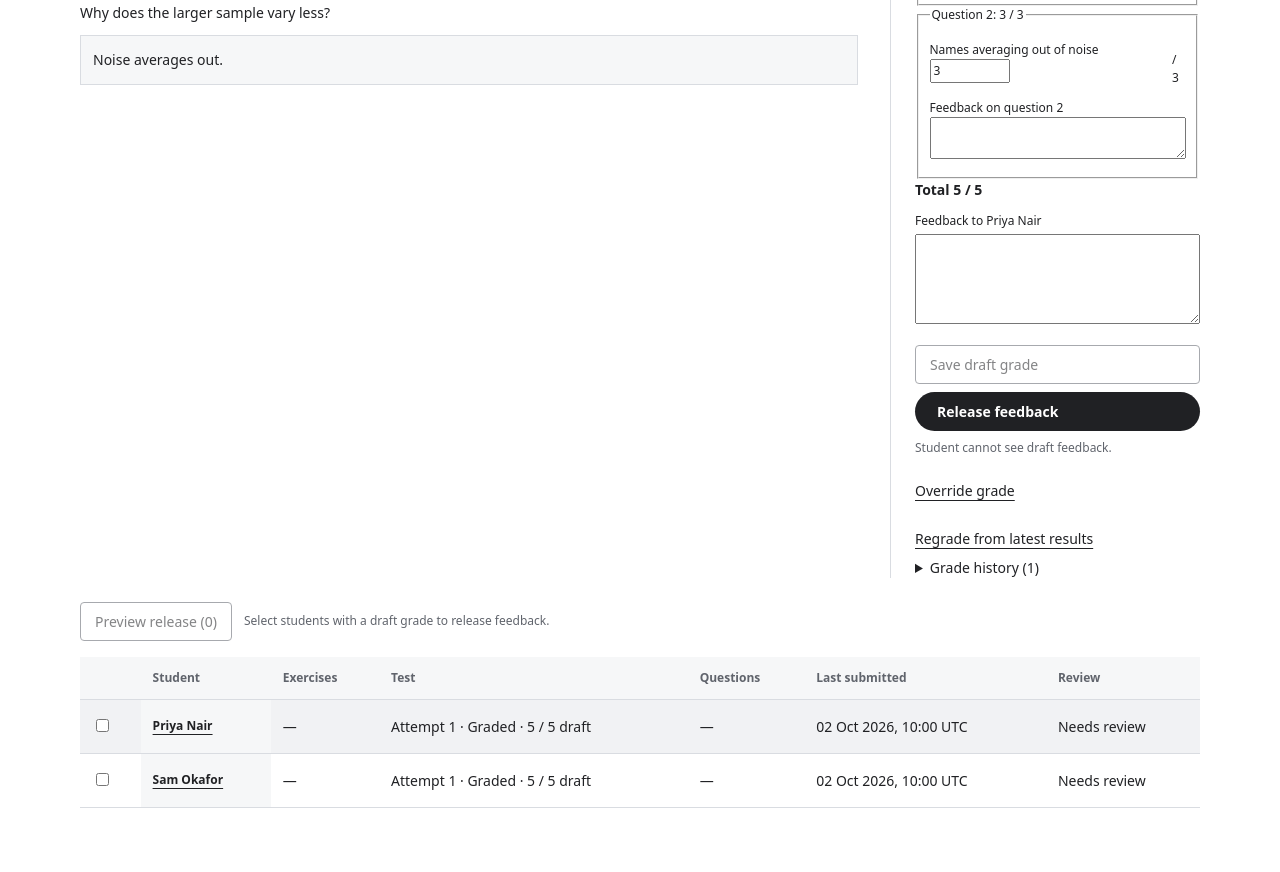
Test: grading workspace › A17 an override asks for a reason, and the history keeps the grade it replaced
(page scrolled)
Click the button "Override grade" at (965, 491), box [915,473,1015,509]
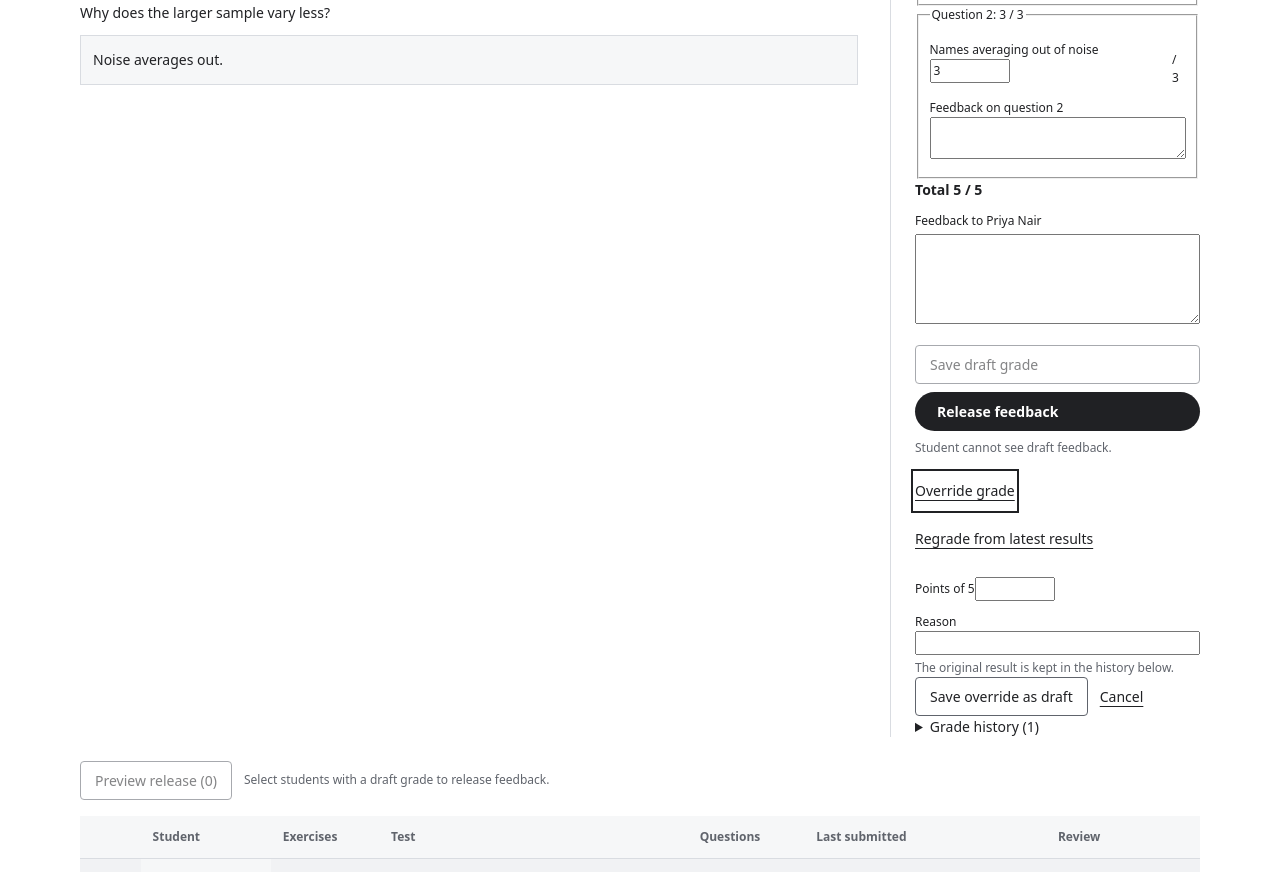
Type "4" into the number field labelled "Points of 5" at (1015, 589), box [975,577,1055,601]
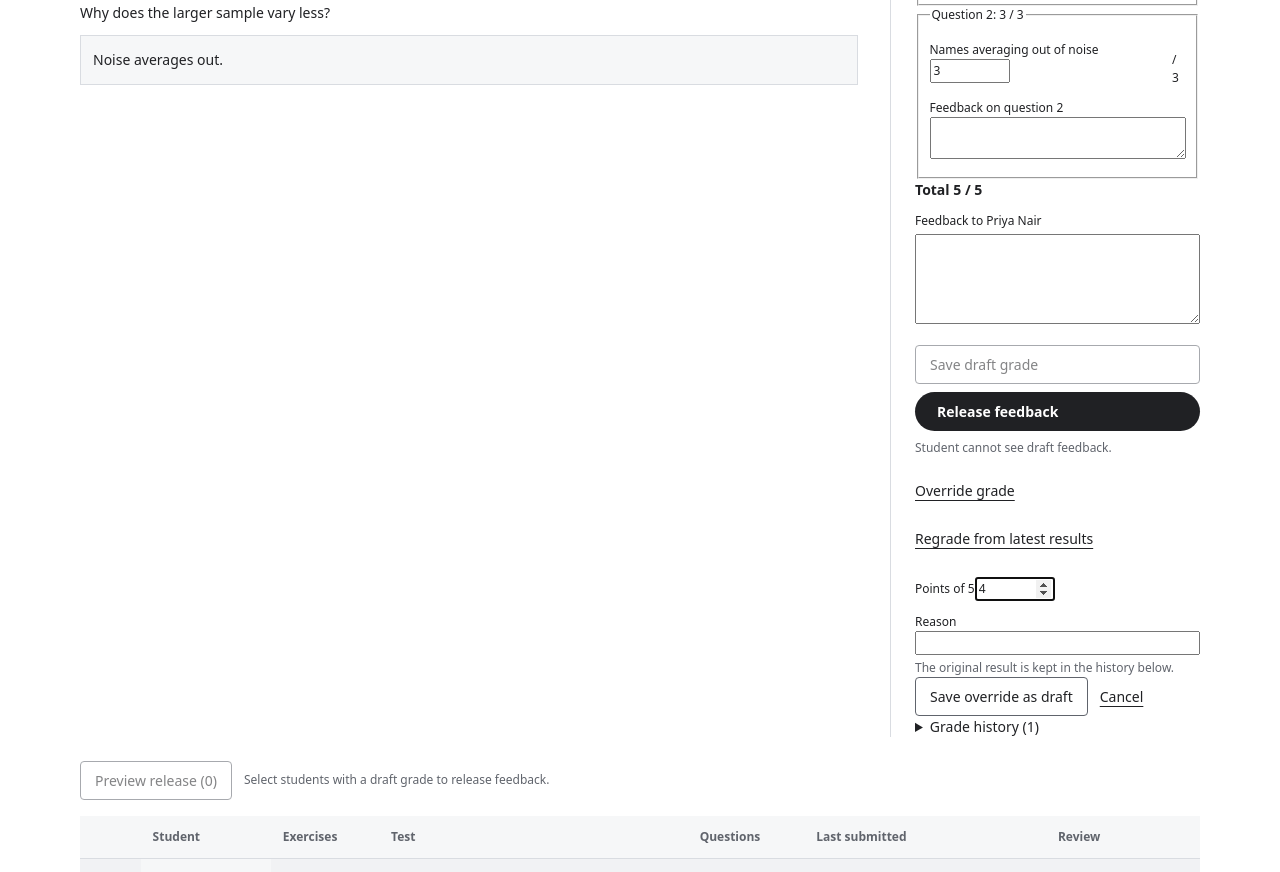
Type "Check misjudged a correct answer" into the field labelled "Reason" at (1058, 643), box [915,631,1200,655]
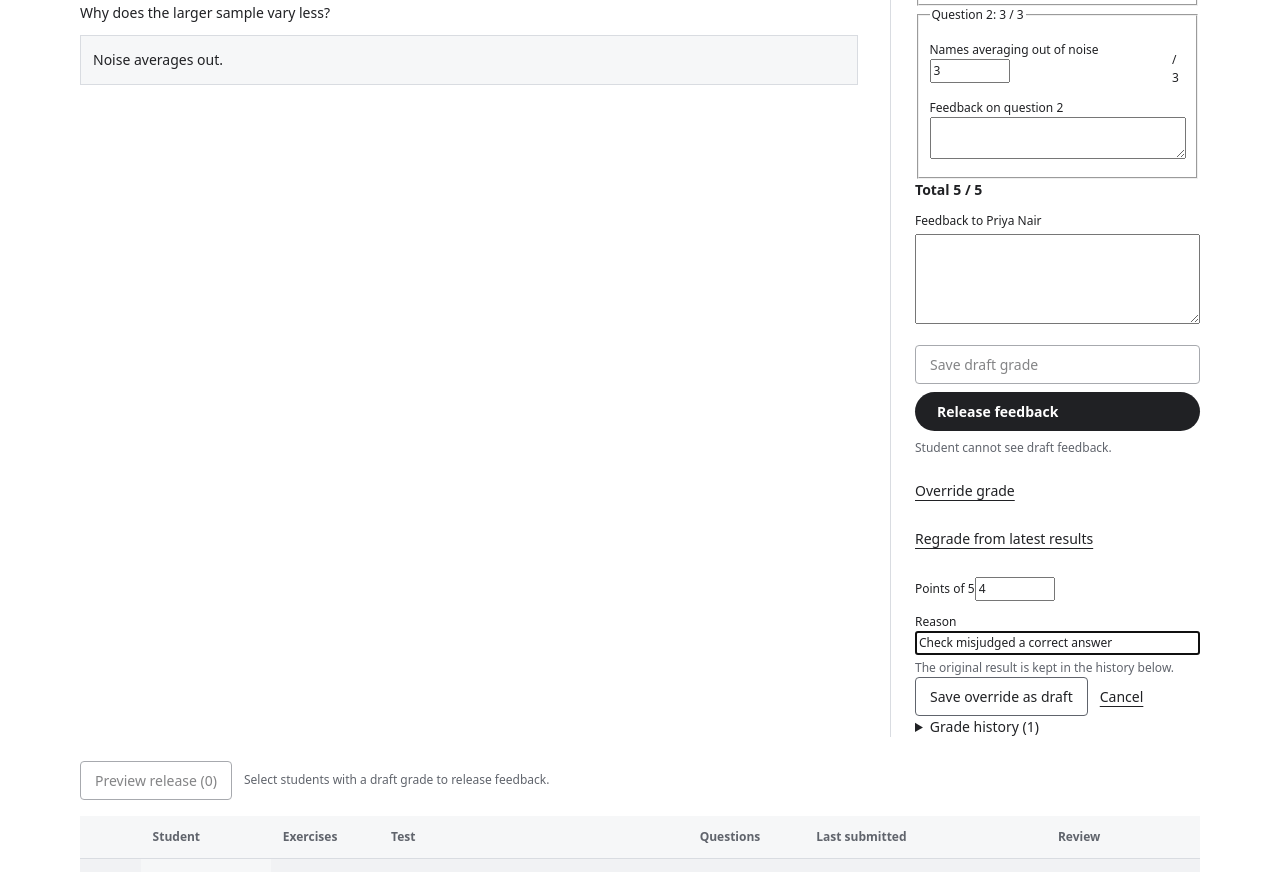
Click the button "Save override as draft" at (1001, 696), box [915,677,1088,716]
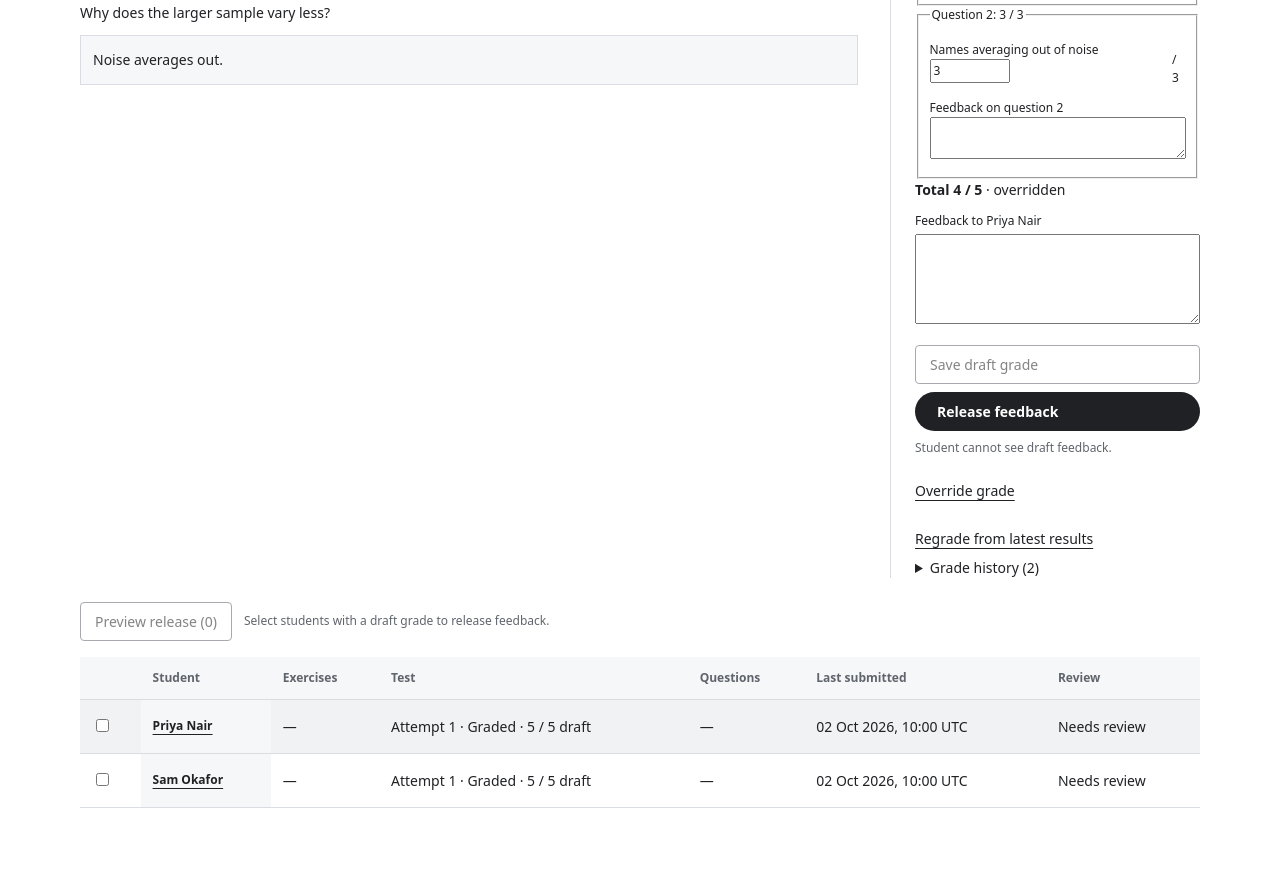
Click the heading "Grade history (2)" at (984, 567), box [930,558,1039,577]
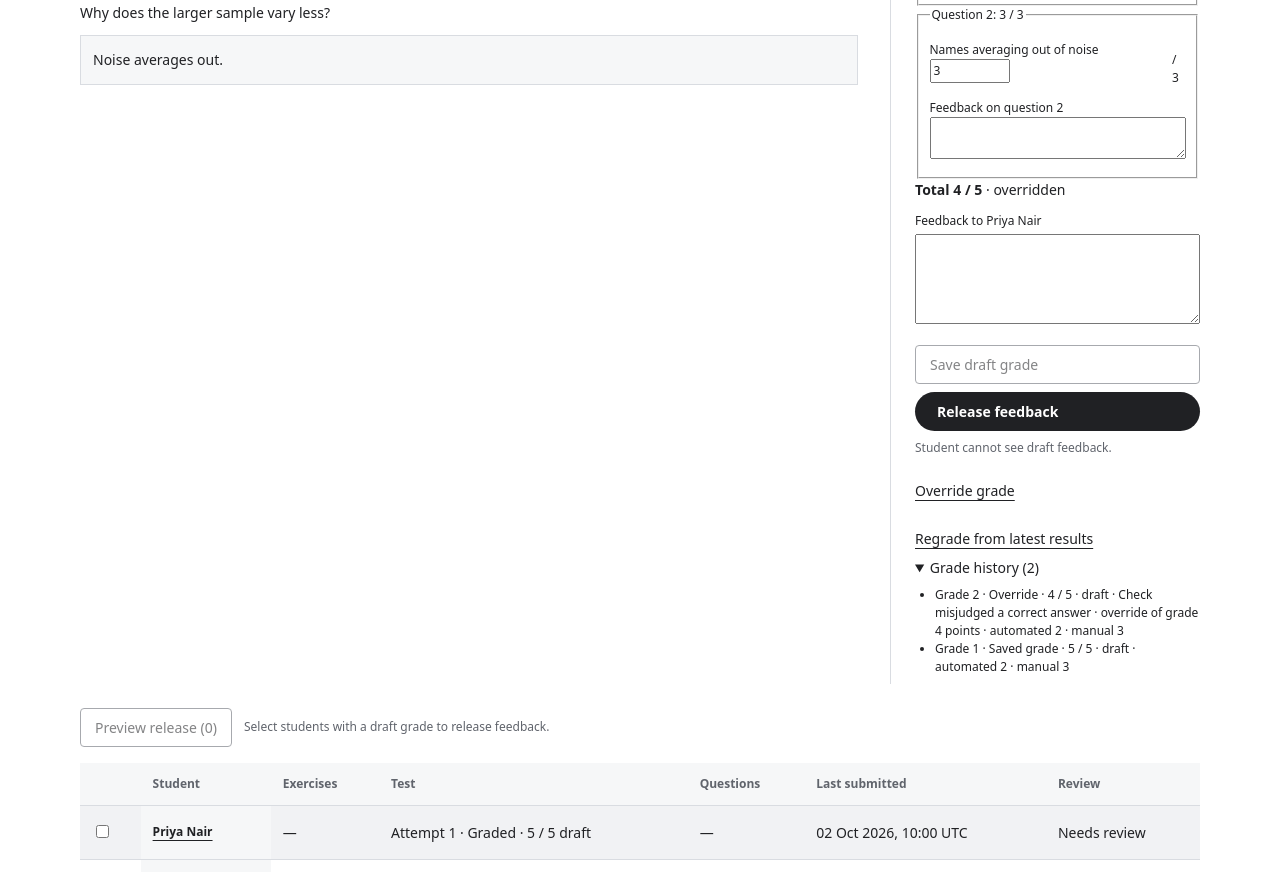
Now the number of list items is 2, box [935,586,1200,640]; [935,640,1136,675]
Now the list named "Grade history" shows "Grade 2 · Override · 4 / 5", box [915,586,1200,676]
Now the list named "Grade history" shows "Grade 1 · Saved grade · 5 / 5", box [915,586,1200,676]
